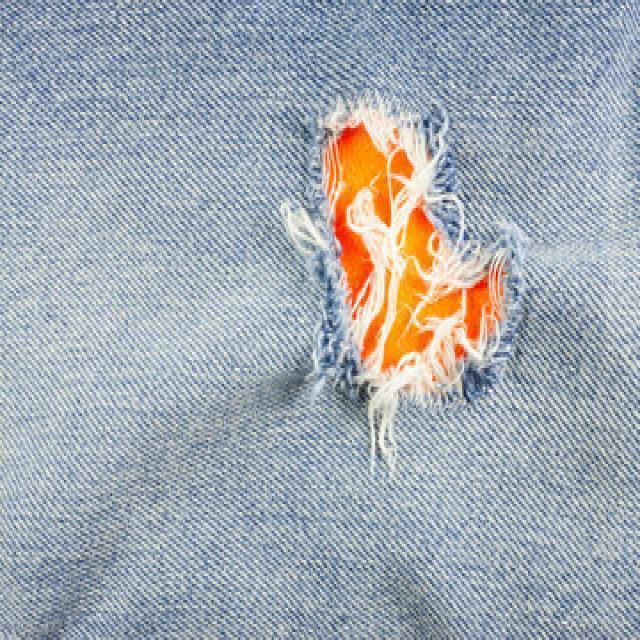Hole: (310, 98, 524, 418)
